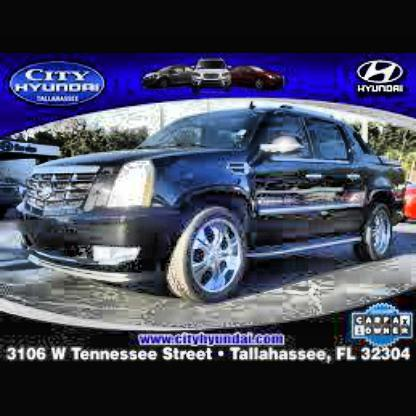Cadillac Escalade EXT Crew Cab 2007: (16, 108, 407, 305)
